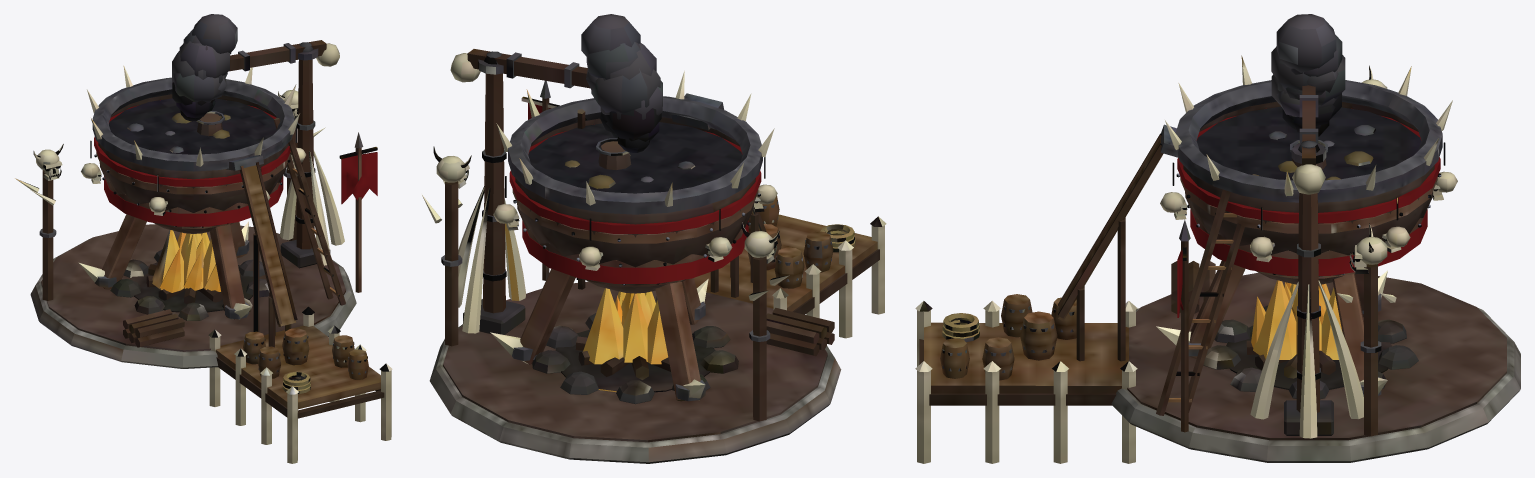
Rendered from ash_cauldron.glb.
3 renders of one model, left to right at view 1: azimuth 30°, elevation 25°; view 2: azimuth 150°, elevation 25°; view 3: azimuth 270°, elevation 25°, orthographic. The views are drawn at different scales.
Parts seen in each view (by area): view 1: Static_Mesh, Anim_Banners, Anim_Smoke, Anim_Crane; view 2: Static_Mesh, Anim_Smoke, Anim_Banners, Anim_Crane; view 3: Static_Mesh, Anim_Smoke, Anim_Banners, Anim_Crane.
Part boxes in pixels (bbox=[...]): Static_Mesh: bbox=[15, 48, 392, 463]; Anim_Banners: bbox=[94, 100, 377, 226]; Anim_Smoke: bbox=[172, 14, 237, 121]; Anim_Crane: bbox=[196, 40, 339, 136]; Static_Mesh: bbox=[422, 59, 886, 463]; Anim_Smoke: bbox=[581, 14, 662, 152]; Anim_Banners: bbox=[509, 103, 761, 283]; Anim_Crane: bbox=[450, 49, 631, 169]; Static_Mesh: bbox=[915, 55, 1520, 463]; Anim_Smoke: bbox=[1271, 14, 1345, 136]; Anim_Banners: bbox=[1177, 108, 1440, 317]; Anim_Crane: bbox=[1290, 85, 1327, 194].
Size of the model in its own units: 7.21 by 7.58 by 9.75.
2 materials, 2 textured.
